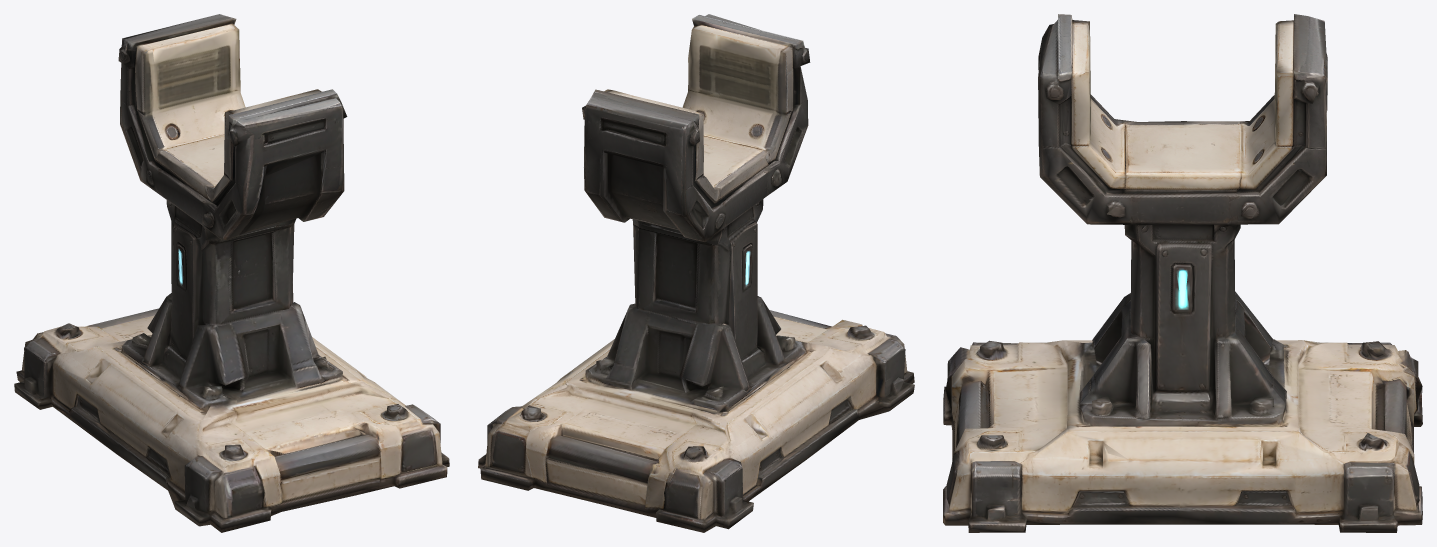
File: energy-conduit-support.glb
3 views of the same model, side by side, from view 1: azimuth 30°, elevation 25°; view 2: azimuth 150°, elevation 25°; view 3: azimuth 270°, elevation 25° (orthographic). The views are drawn at different scales.
Parts seen in each view (by area): view 1: energy-conduit-support; view 2: energy-conduit-support; view 3: energy-conduit-support.
Part boxes in pixels (x1,y1,x2,y2): energy-conduit-support: (14,14,449,532); energy-conduit-support: (478,14,914,532); energy-conduit-support: (943,14,1422,532).
Size of the model in its own units: 0.8701 by 1.2 by 1.24.
Materials: 1 (1 with a texture image).
